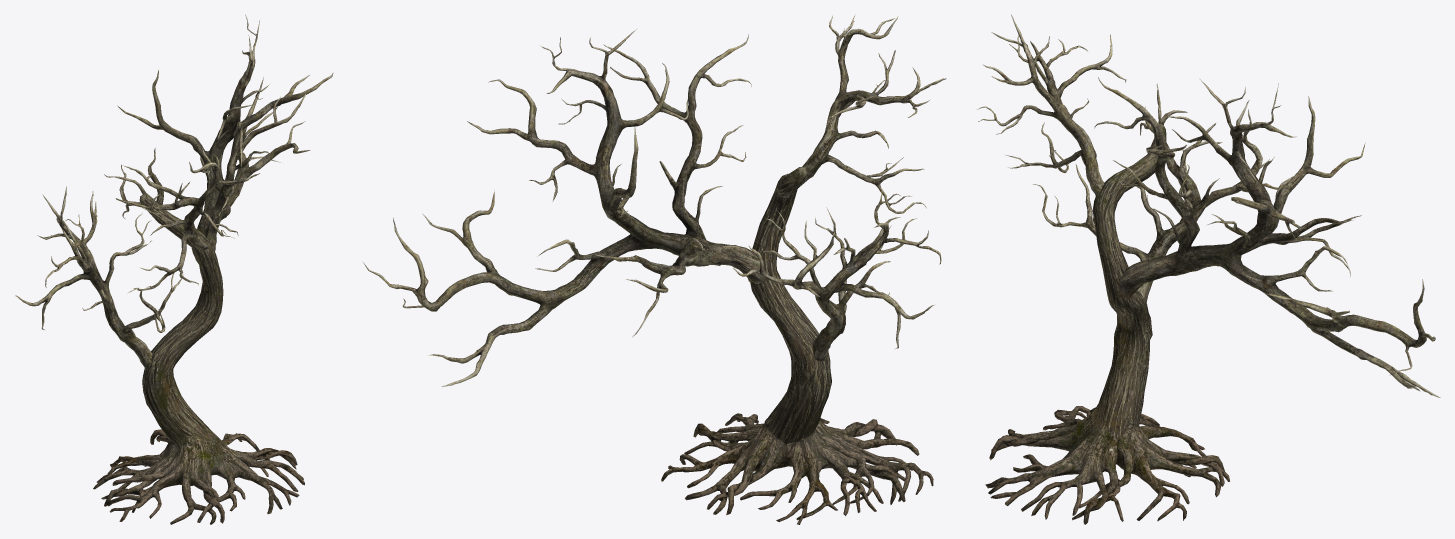
The model's file is DryTreeT3_branches_1_SM_02.fbx.
3 views of the same model, side by side, from view 1: azimuth 30°, elevation 25°; view 2: azimuth 150°, elevation 25°; view 3: azimuth 270°, elevation 25° (orthographic). The views are drawn at different scales.
Visible parts, largest first — view 1: DryTreeT3_branches_1_SM_02; view 2: DryTreeT3_branches_1_SM_02; view 3: DryTreeT3_branches_1_SM_02.
Boxes of the visible parts, <box> form: DryTreeT3_branches_1_SM_02: <box>15,14,333,524</box>; DryTreeT3_branches_1_SM_02: <box>363,16,946,524</box>; DryTreeT3_branches_1_SM_02: <box>977,14,1440,524</box>.
Bounding box in the file's own units: 1473 × 1475 × 1343.
